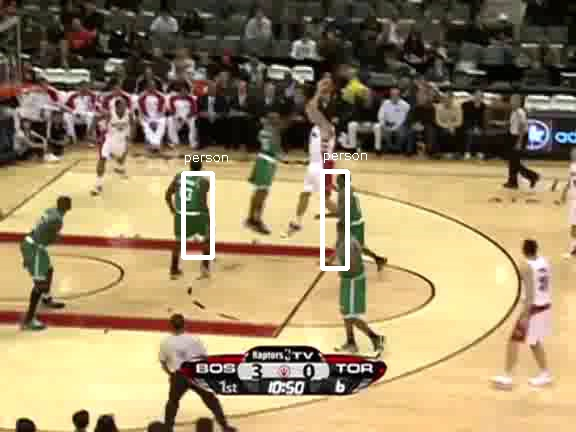person: (334, 177, 368, 258), (333, 177, 367, 258), (335, 177, 369, 258), (334, 176, 368, 257), (334, 178, 368, 259)
target_negative: (97, 230, 286, 310), (101, 99, 246, 189), (288, 335, 429, 413), (480, 10, 505, 126), (528, 56, 534, 107)
